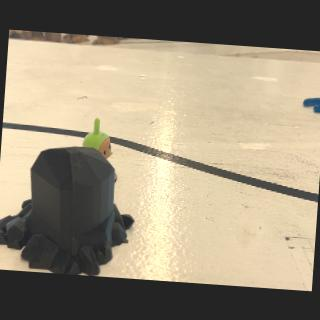teletubby: (82, 118, 112, 159)
